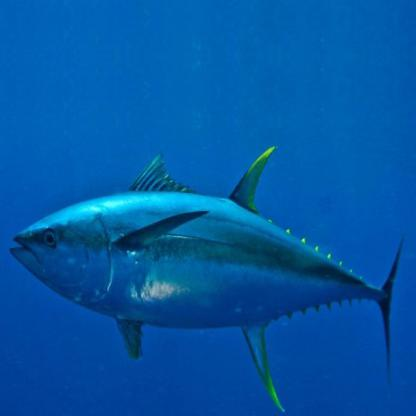Scombridae -Tunas-: (7, 144, 407, 409)
